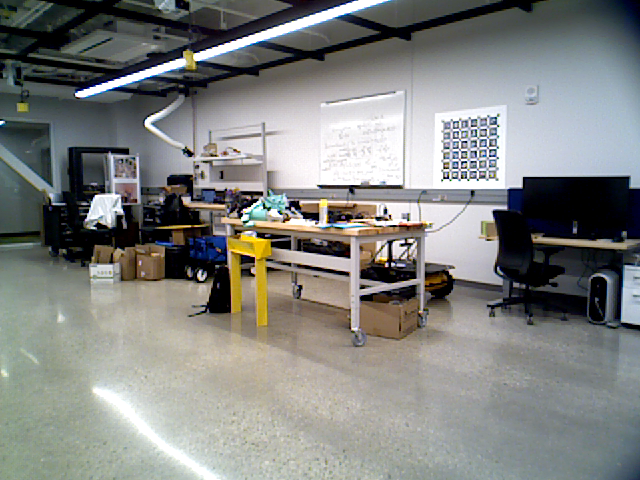painting4: (433, 108, 506, 189)
